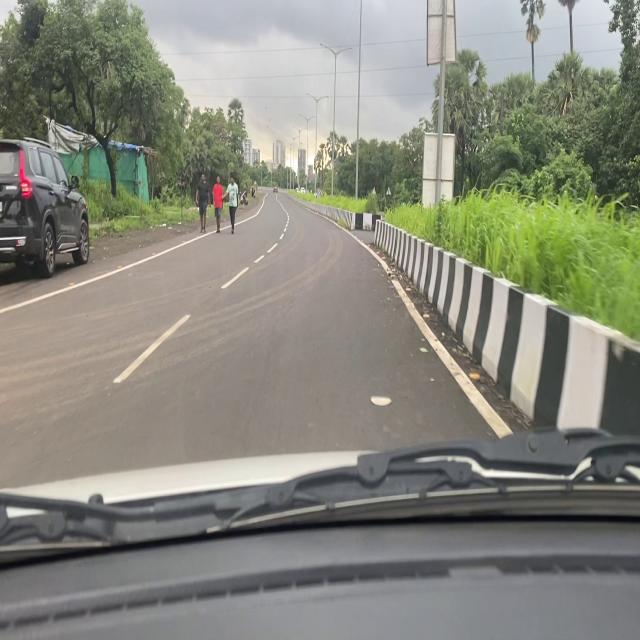lane: (329, 212, 518, 440), (1, 204, 270, 321), (114, 227, 289, 391)
